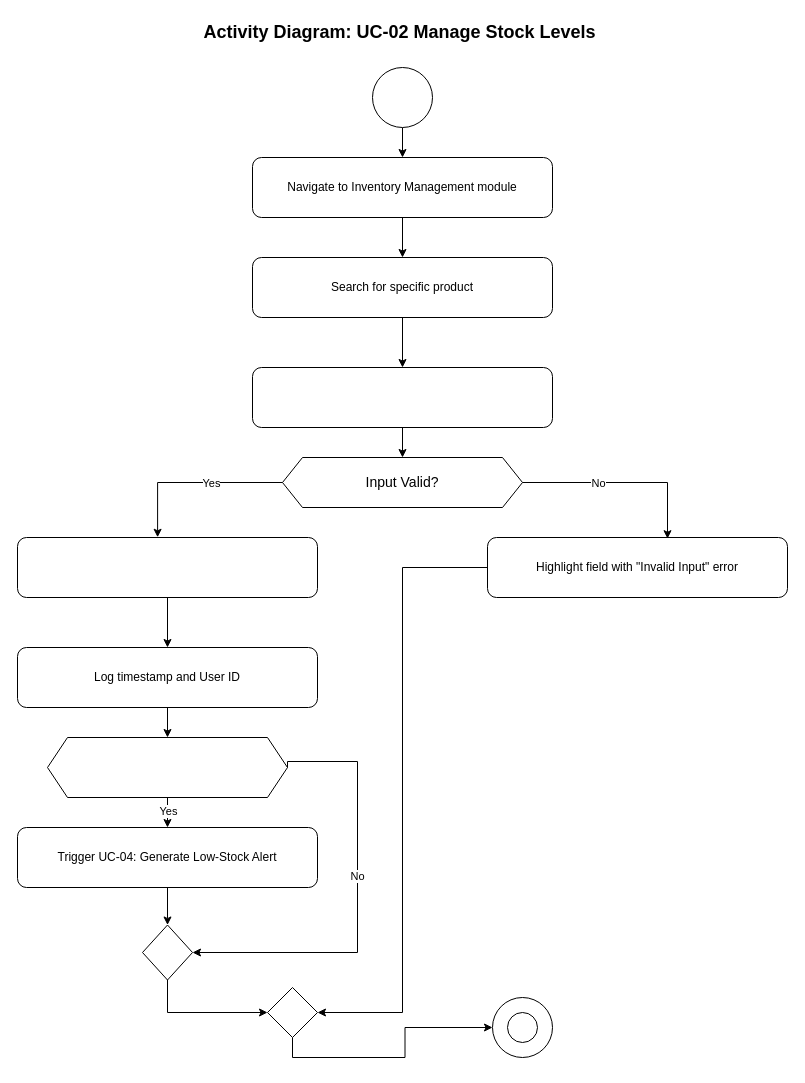
Some shapes in this 805 by 1083 pixel diagram are drawn without their labels. Here are the shapes that lost their labels. From the top down, the centre of each, then its label:
the point at 402,397: Select "Update Stock" and input received quantity
the point at 167,567: Update cloud database
the point at 167,767: Below Minimum Threshold?
